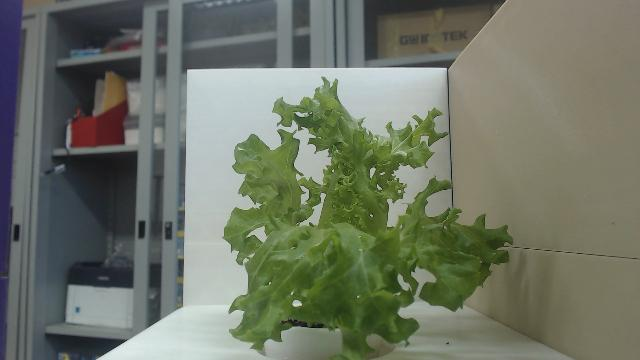Harvest Stage: (222, 76, 514, 360)
